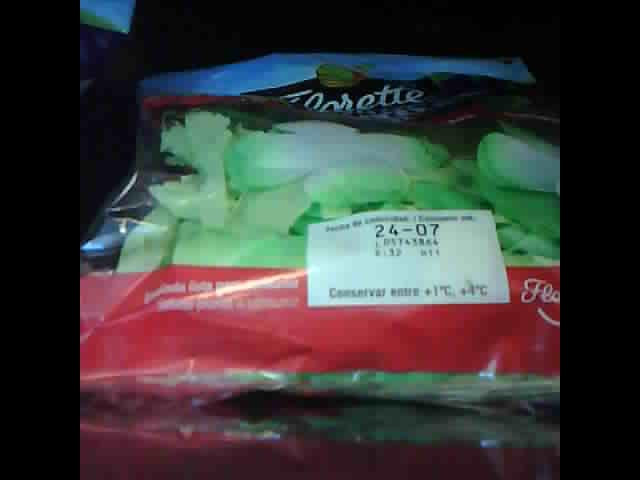florette: (81, 45, 559, 399)
